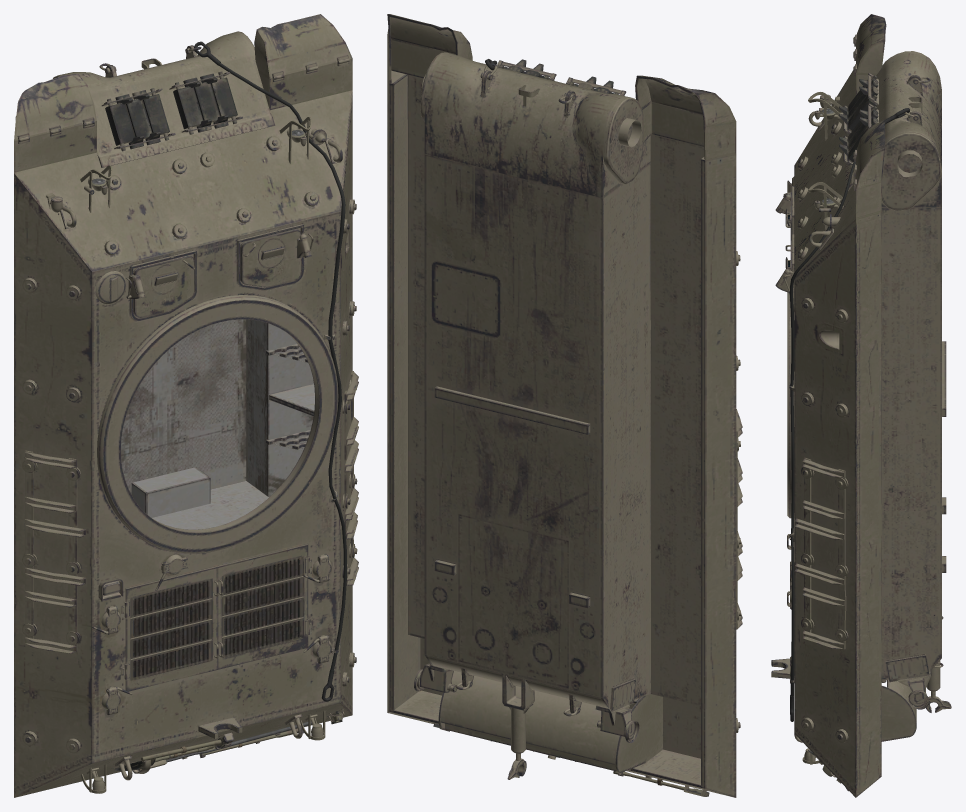
File: Hull.glb
The picture shows the model from 3 angles, left to right: view 1: azimuth 30°, elevation 25°; view 2: azimuth 150°, elevation 25°; view 3: azimuth 270°, elevation 25°; orthographic projection. The views are drawn at different scales.
Parts seen in each view (by area): view 1: set_0_group_0; view 2: set_0_group_0; view 3: set_0_group_0.
Boxes of the visible parts, x1,y1,x2,y2 form: set_0_group_0: [14, 14, 358, 797]; set_0_group_0: [387, 14, 742, 797]; set_0_group_0: [771, 14, 951, 797].
Size of the model in its own units: 3.05 by 6.01 by 1.52.
1 material, 1 textured.
